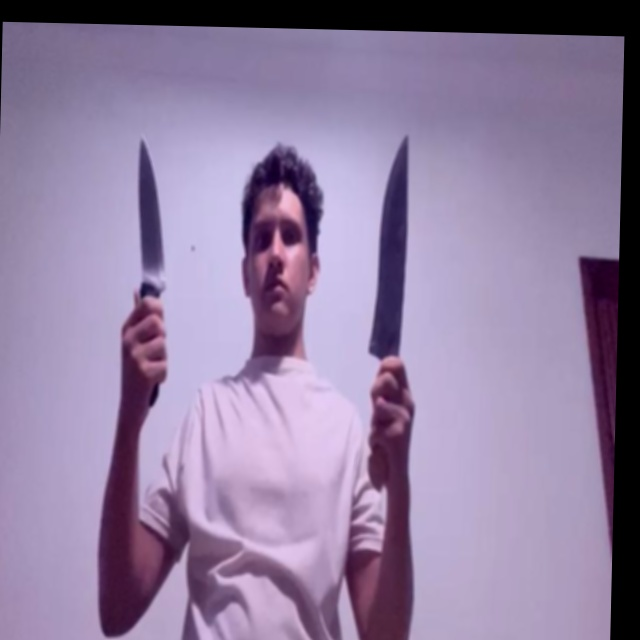Sharp-Object: (368, 129, 410, 355), (133, 134, 167, 285)
